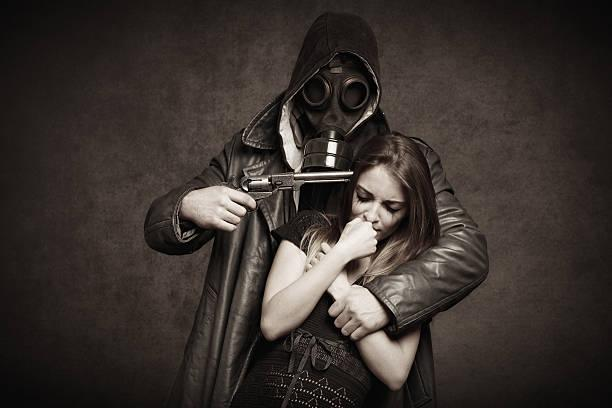weapon: (231, 167, 355, 203)
